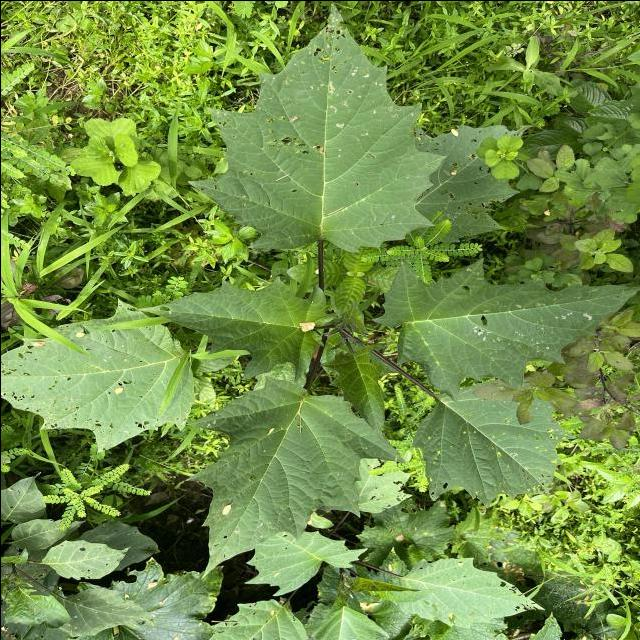Datura metal linn: (184, 0, 449, 254), (182, 374, 410, 582), (369, 258, 640, 406), (0, 296, 196, 454), (406, 382, 580, 511), (133, 274, 339, 382), (387, 554, 547, 630), (242, 528, 370, 596), (316, 342, 386, 444), (38, 537, 132, 580), (341, 574, 444, 608)
